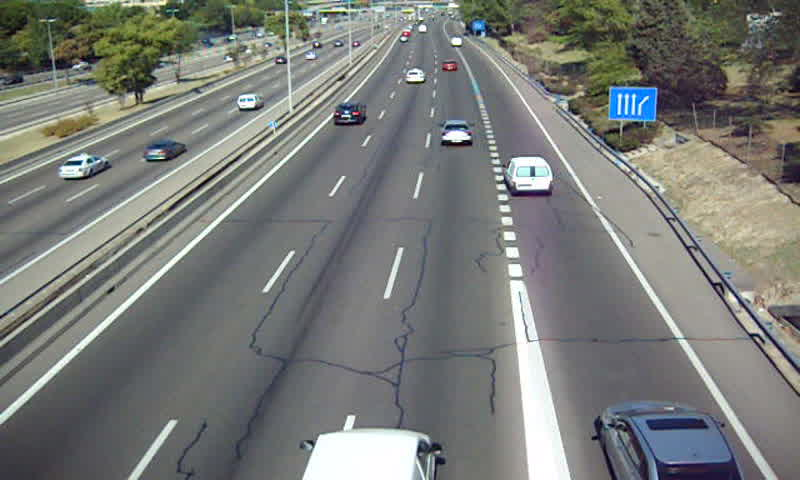car: (599, 404, 741, 480), (439, 122, 473, 146), (333, 101, 366, 124), (404, 67, 425, 85), (442, 59, 459, 72)
van: (505, 157, 553, 193)
